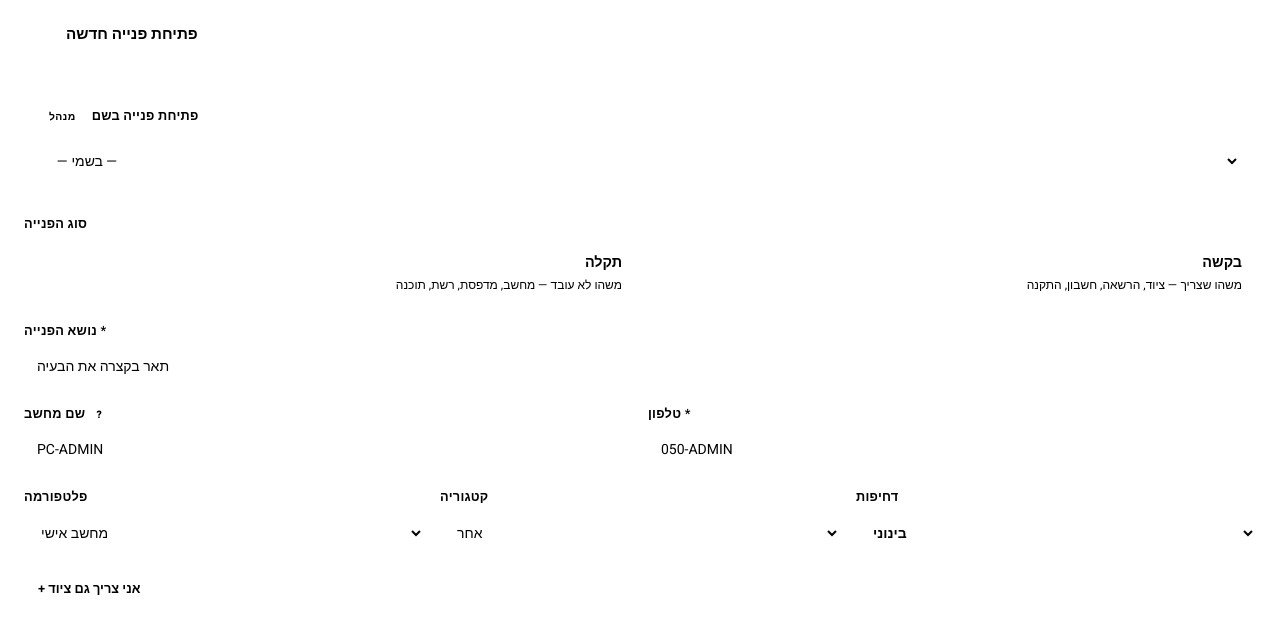
Test: TicketForm › open in someone else's name (admin) › SAYS SO when nothing is known, instead of two fields going quietly blank
Select "guy@cristalino.co.il" in the dropdown labelled "פתיחת פנייה בשם": [640, 161] box [40,140,1240,183]
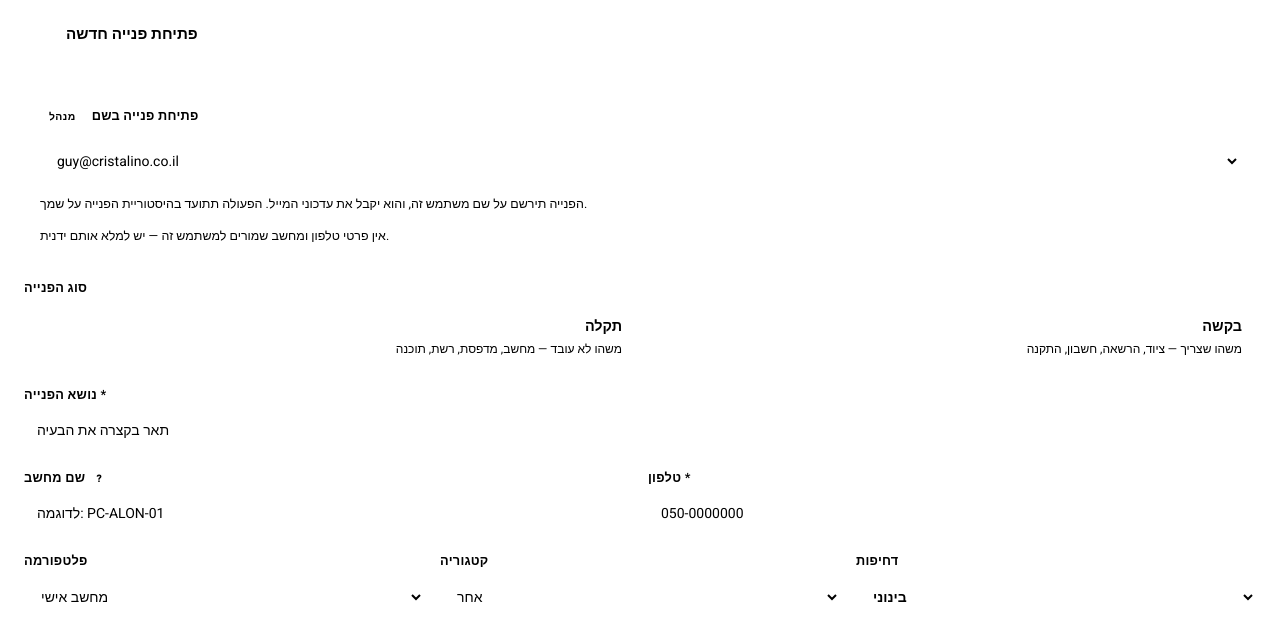
Expected: the field with placeholder "050-0000000" is empty, [648,493,1256,534]
Expected: the text "אין פרטי טלפון ומחשב שמורים למשתמש זה — יש למלא אותם ידנית." is shown, [40,227,389,245]
